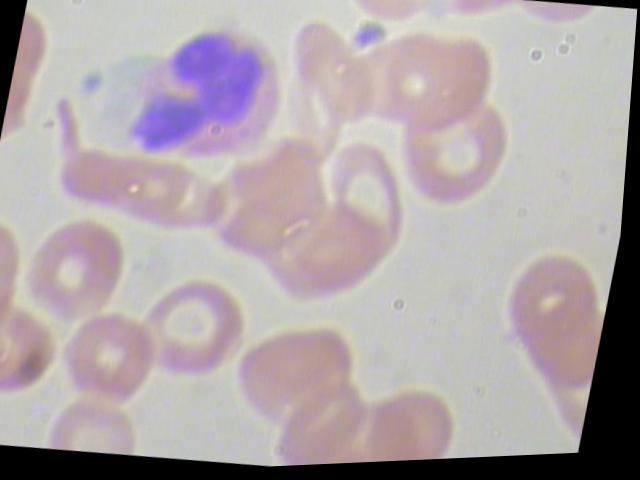Platelets: (349, 22, 392, 62), (75, 68, 111, 102)
Red Blood Cells: (386, 95, 526, 221), (229, 315, 369, 441), (479, 247, 619, 372), (306, 136, 435, 260), (263, 207, 399, 316), (18, 212, 143, 330), (136, 274, 262, 390), (48, 302, 174, 418), (194, 166, 323, 277), (53, 147, 199, 236), (367, 32, 479, 147), (361, 380, 480, 465), (0, 300, 67, 411)
White Blood Cells: (116, 15, 298, 182)
